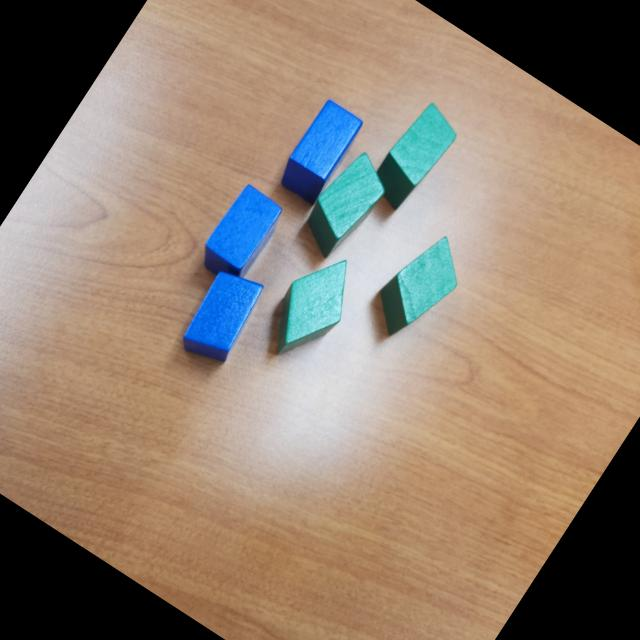blue: (192, 180, 290, 290), (174, 262, 270, 372), (272, 97, 366, 207)
green: (251, 237, 374, 376), (360, 219, 477, 352), (360, 91, 470, 220), (290, 140, 400, 267)
